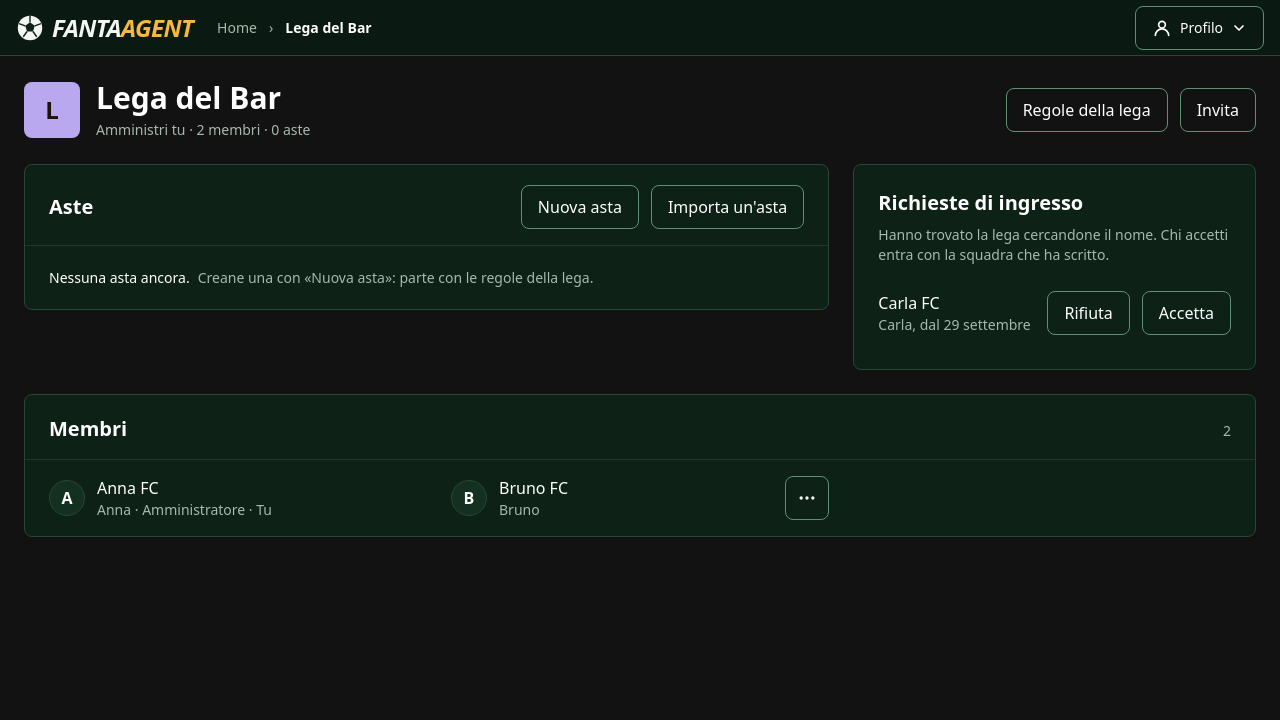
Test: LeagueRoute › l'amministratore accetta chi chiede di entrare
Expected: the text "Carla FC" is shown, 878,292 -> 940,314
Click the button with aria-label "Accetta Carla FC": click(1186, 313) 1142,291 -> 1231,335
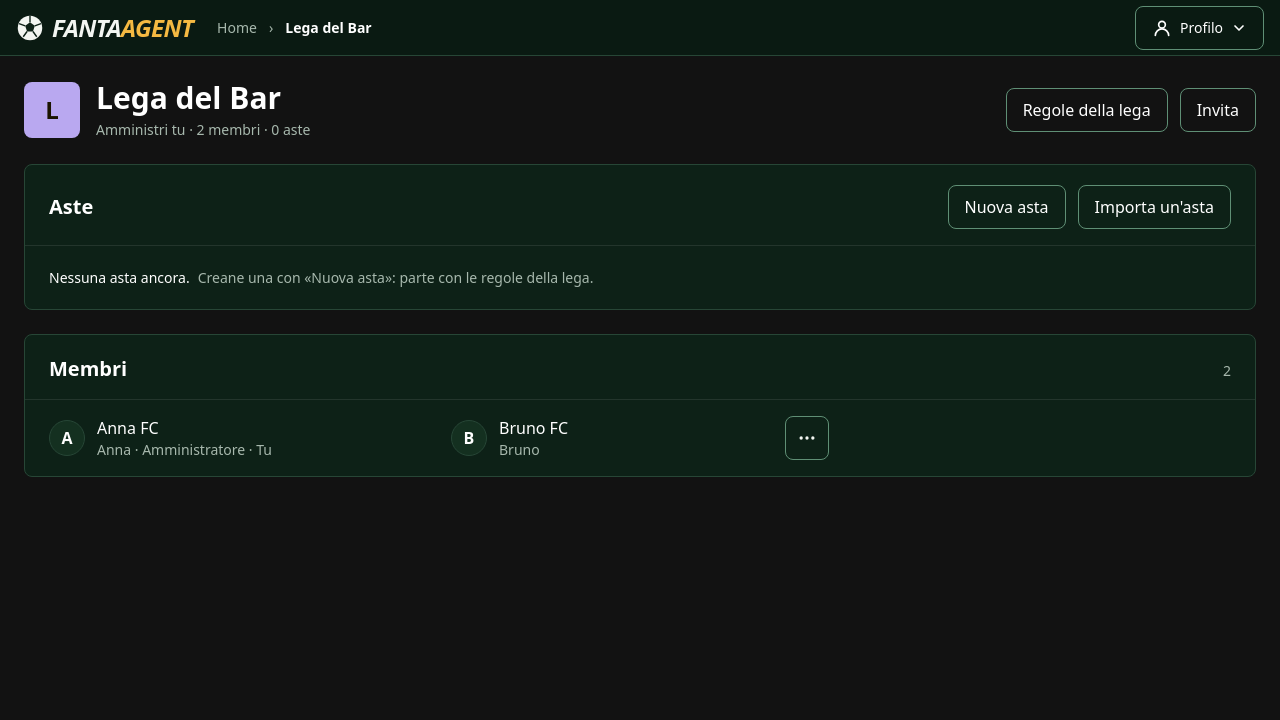
Expected: the heading "Richieste di ingresso" is gone
